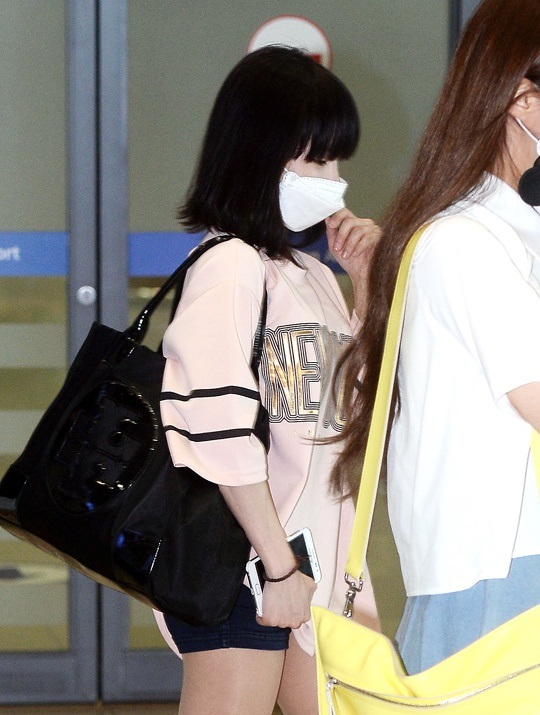face_mask: (281, 118, 350, 232)
